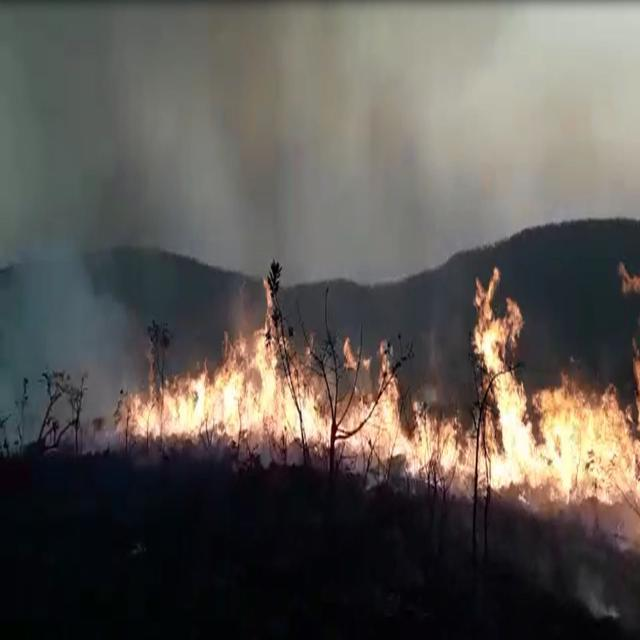Fire: (474, 268, 544, 506), (278, 341, 400, 466), (543, 374, 640, 508), (221, 278, 279, 456), (118, 359, 222, 448), (400, 398, 481, 496), (628, 316, 640, 504), (621, 264, 640, 297)
Smoke: (0, 0, 511, 281), (0, 251, 118, 448), (579, 564, 619, 624)
